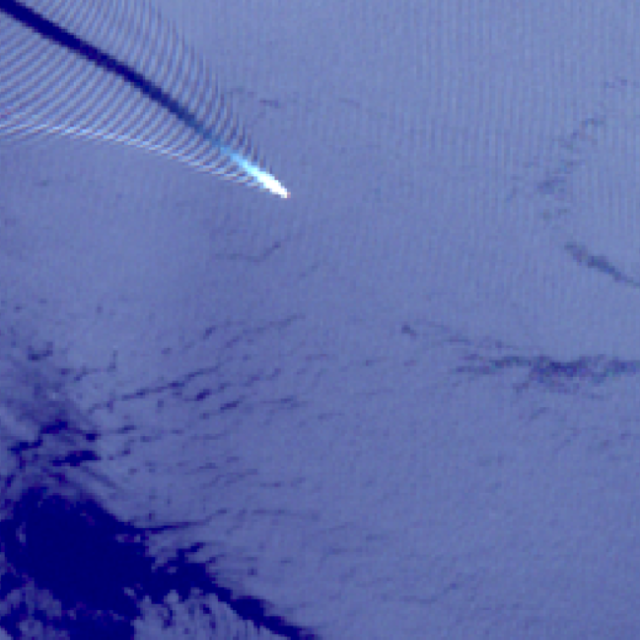wake: (80, 10, 342, 259)
